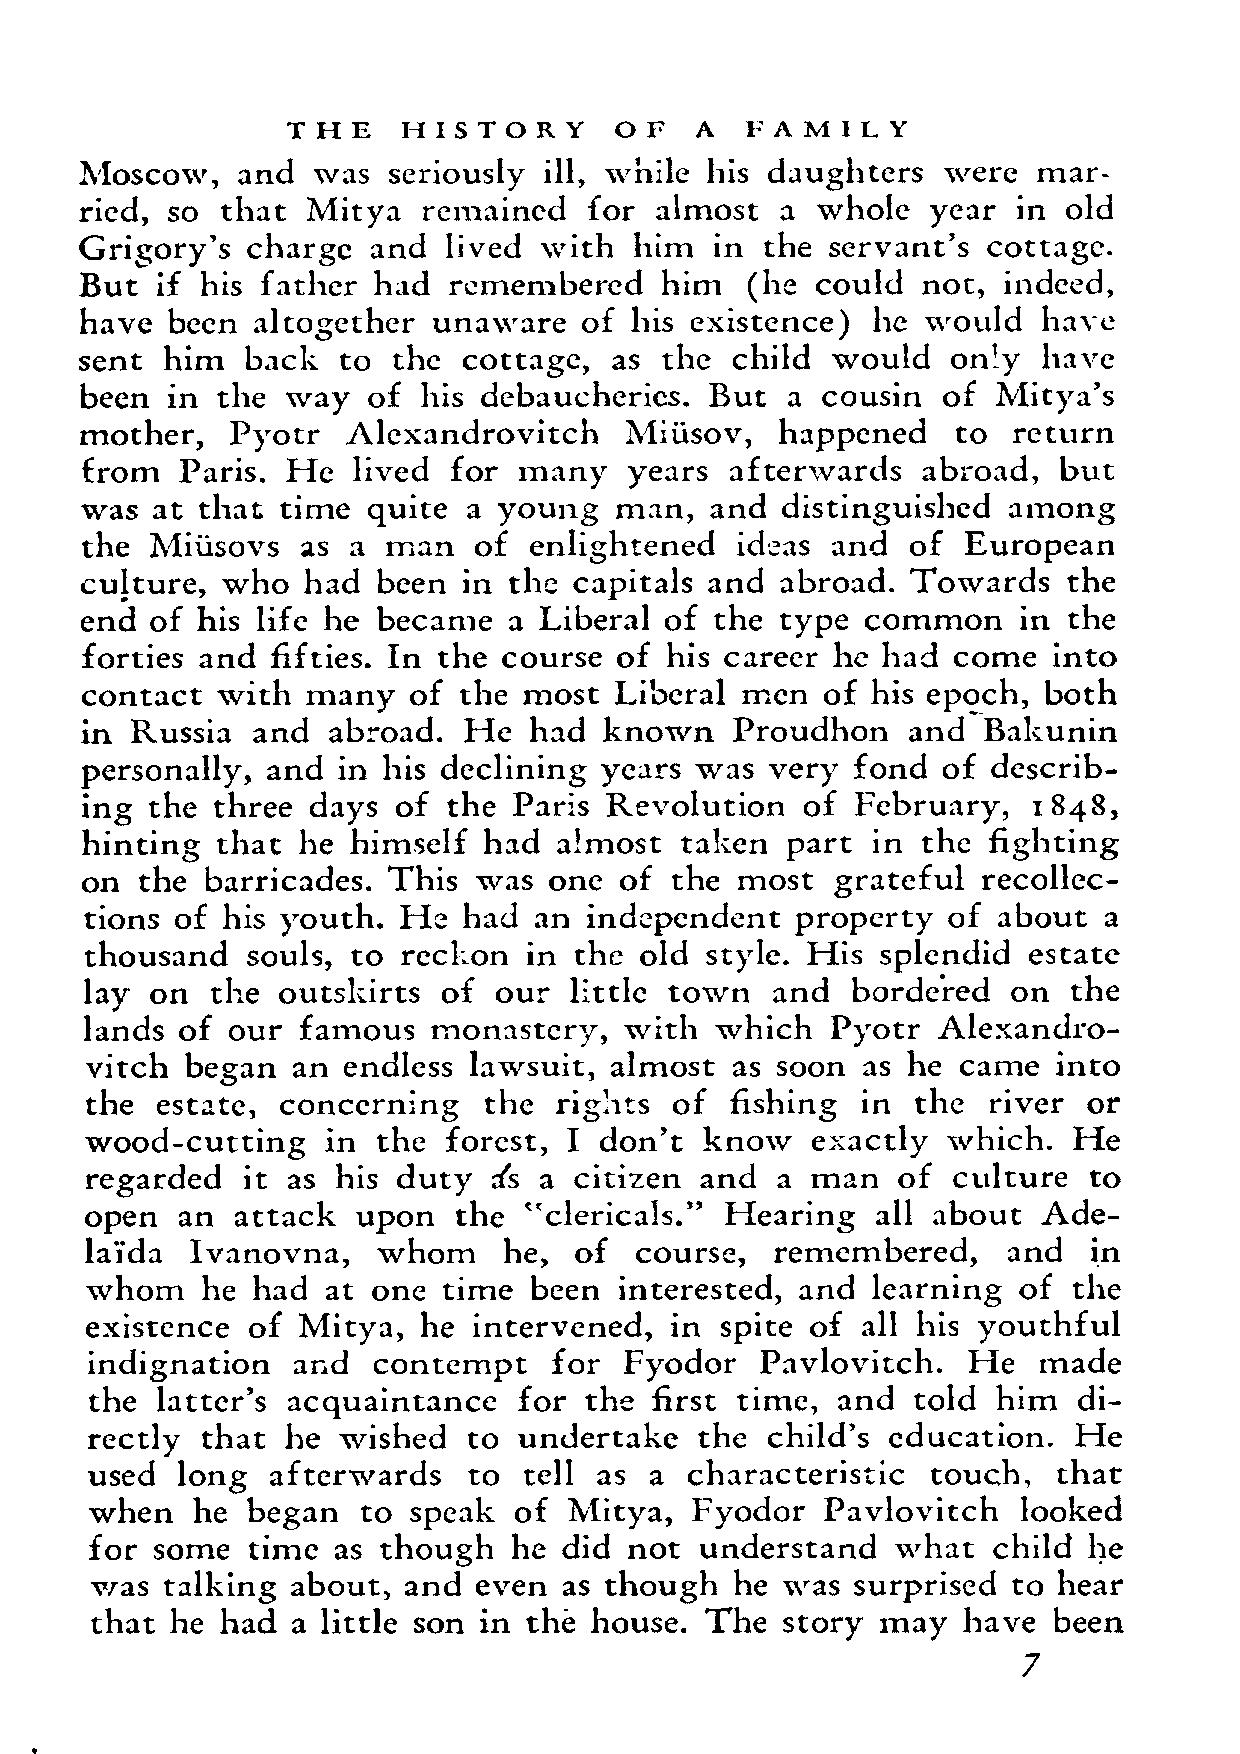chapter: (280, 118, 909, 140)
content: (74, 154, 1129, 1643)
content_pagenumber: (1015, 1649, 1041, 1679)
